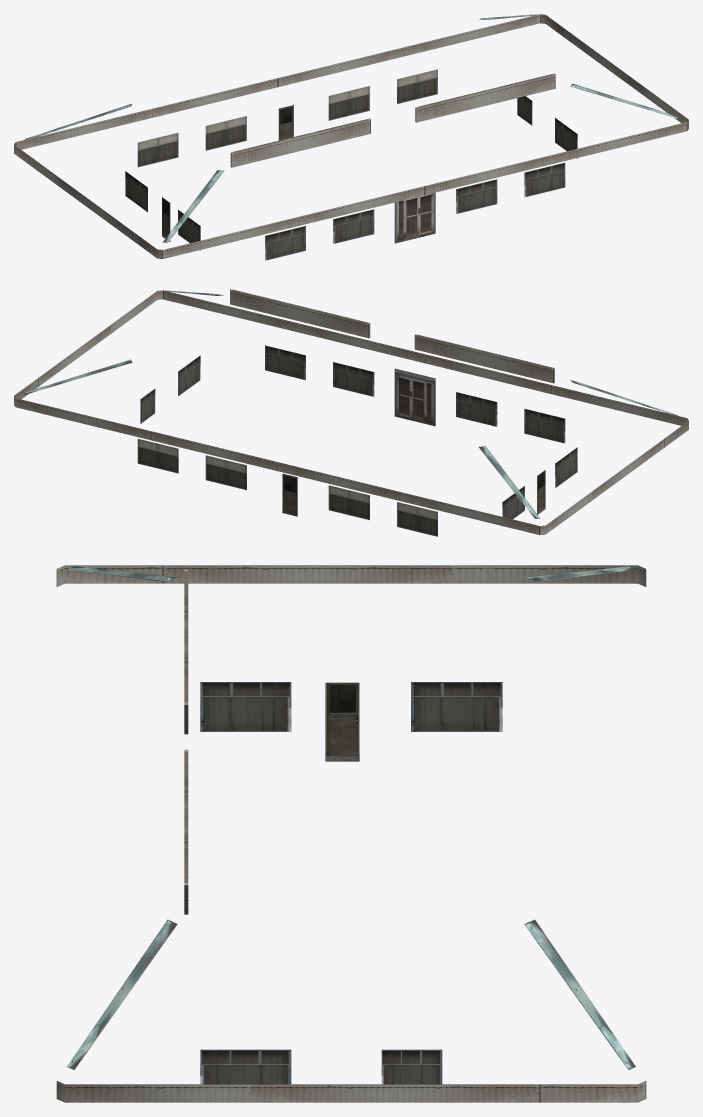
Rendered from rural_woodenbuilding_4_rural_facade_flr_2_0_lev2.glb.
The picture shows the model from 3 angles, top to bottom: view 1: azimuth 30°, elevation 25°; view 2: azimuth 150°, elevation 25°; view 3: azimuth 270°, elevation 25°; orthographic projection. The views are drawn at different scales.
Parts seen in each view (by area): view 1: rural_woodenbuilding_4_rural_facade_flr_2_0_lev2; view 2: rural_woodenbuilding_4_rural_facade_flr_2_0_lev2; view 3: rural_woodenbuilding_4_rural_facade_flr_2_0_lev2.
Part boxes in pixels (<box>): rural_woodenbuilding_4_rural_facade_flr_2_0_lev2: <box>14,14,688,260</box>; rural_woodenbuilding_4_rural_facade_flr_2_0_lev2: <box>14,289,688,536</box>; rural_woodenbuilding_4_rural_facade_flr_2_0_lev2: <box>56,565,646,1102</box>.
Bounding box in the file's own units: 20.28 × 3.97 × 9.73.
Materials: 1 (1 with a texture image).
